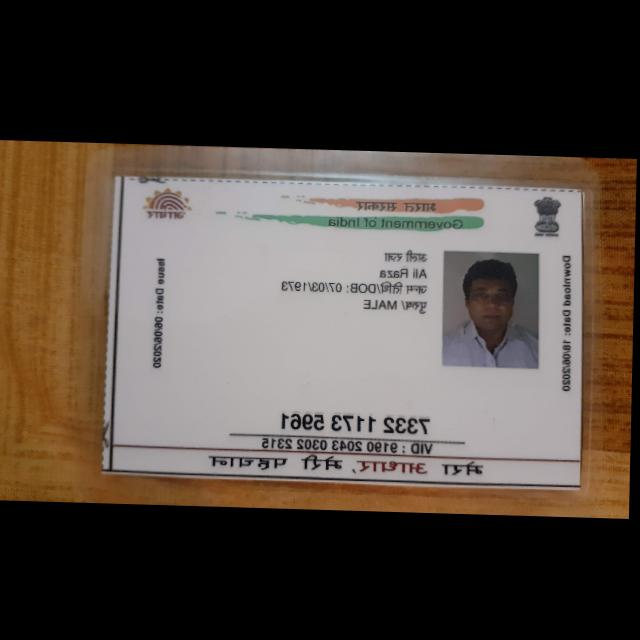aadhaar: (98, 169, 595, 491)
